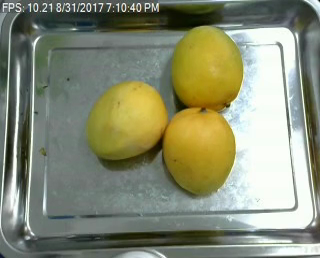Mango: (157, 102, 235, 195), (78, 81, 168, 161), (166, 20, 245, 109)
